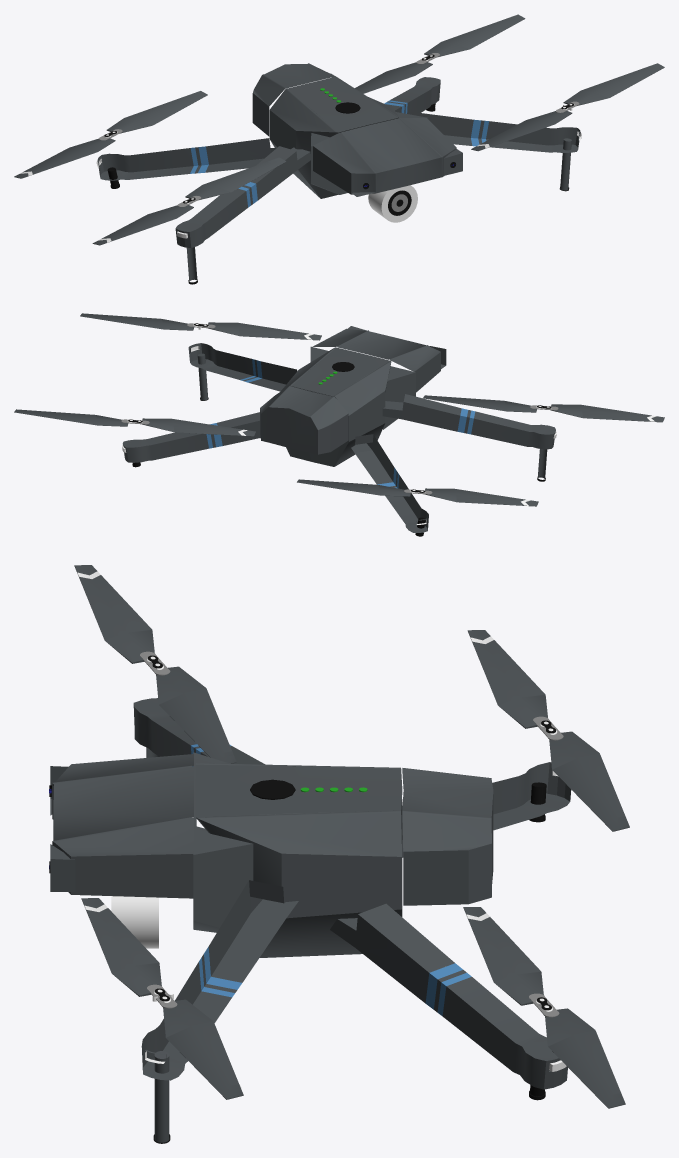
Rendered from NoLod_0(3).glb.
3 renders of one model, top to bottom at view 1: azimuth 30°, elevation 25°; view 2: azimuth 150°, elevation 25°; view 3: azimuth 270°, elevation 25°, orthographic. The views are drawn at different scales.
Visible parts, largest first — view 1: rtc; view 2: rtc; view 3: rtc.
Boxes of the visible parts, x1=… form: rtc: x1=14, y1=14, x2=664, y2=284; rtc: x1=14, y1=313, x2=664, y2=536; rtc: x1=49, y1=565, x2=629, y2=1143.
Bounding box in the file's own units: 0.5017 × 0.0826 × 0.2308.
